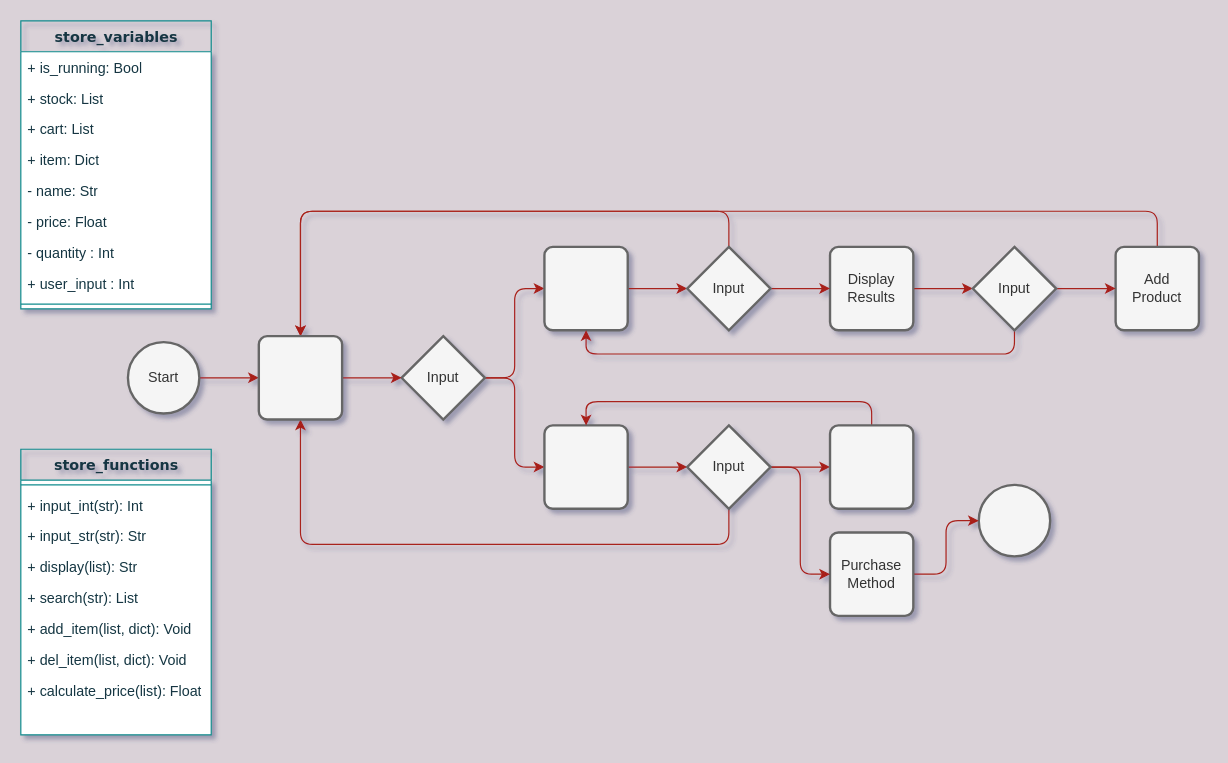
The diagram is 1228 pixels wide and 763 high, and some of its shapes have lost their labels. Here are the shapes that lost their labels. From the top down, the centre of each, then its label:
At (585,288): "Search Product".
At (300,377): "Menu".
At (585,466): "View Cart".
At (871,466): "Remove Product".
At (1014,520): "End".
